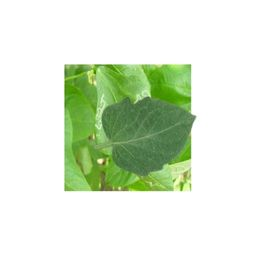liriomyza: (94, 94, 105, 130), (134, 91, 151, 103)
